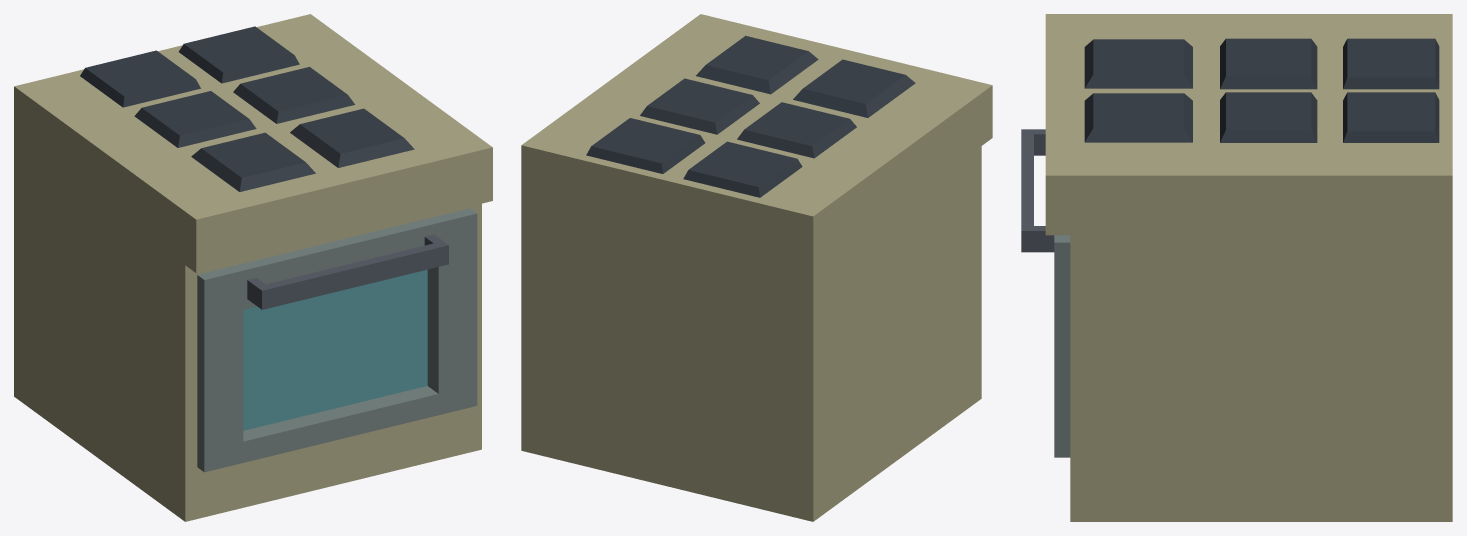
The model's file is oven.fbx.
3 views of the same model, side by side, from view 1: azimuth 30°, elevation 25°; view 2: azimuth 150°, elevation 25°; view 3: azimuth 270°, elevation 25° (orthographic). The views are drawn at different scales.
Visible parts, largest first — view 1: Cube; view 2: Cube; view 3: Cube.
Boxes of the visible parts, x1,y1,x2,y2 form: Cube: [14, 14, 492, 521]; Cube: [521, 14, 992, 521]; Cube: [1021, 14, 1452, 521].
Bounding box in the file's own units: 200 × 206 × 226.
1 material, 1 textured.
